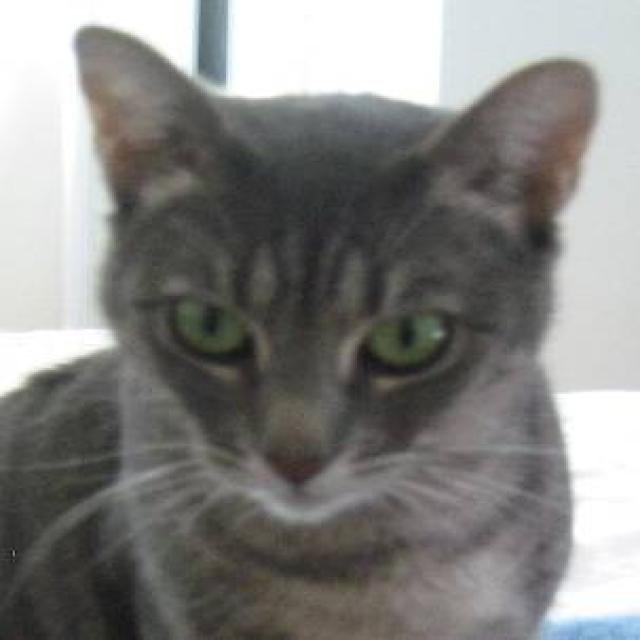cat: (0, 22, 600, 638)
